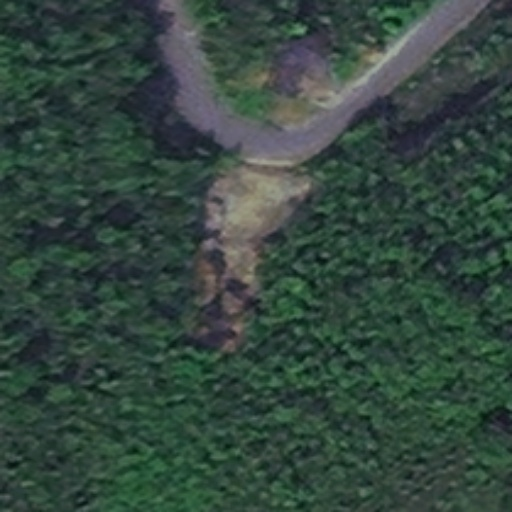landslide: (199, 162, 309, 326)
